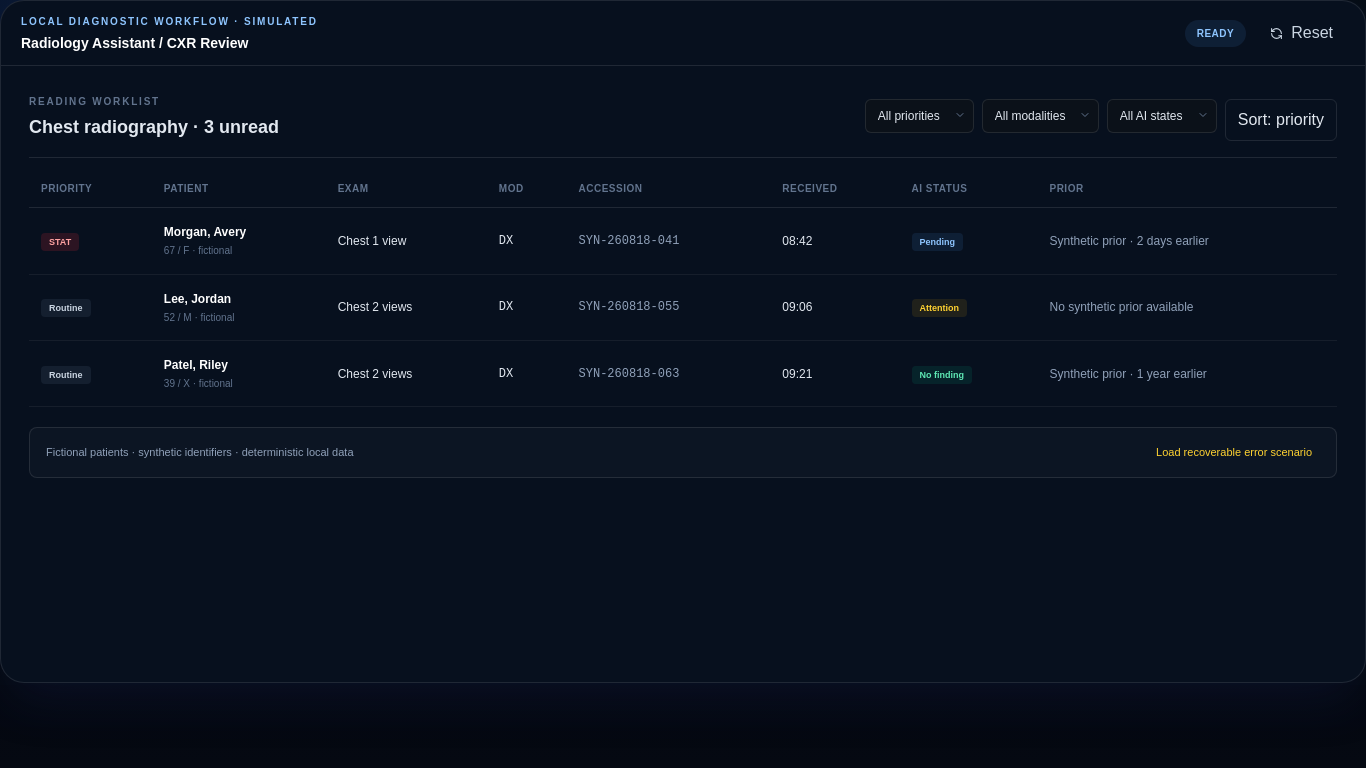
Test: Radiology Assistant simulation › recovers from a simulated processing error and fully resets
Click the button "Load recoverable error scenario".
click(1234, 453)  # box [1148,440,1320,465]
Wait 400 ms
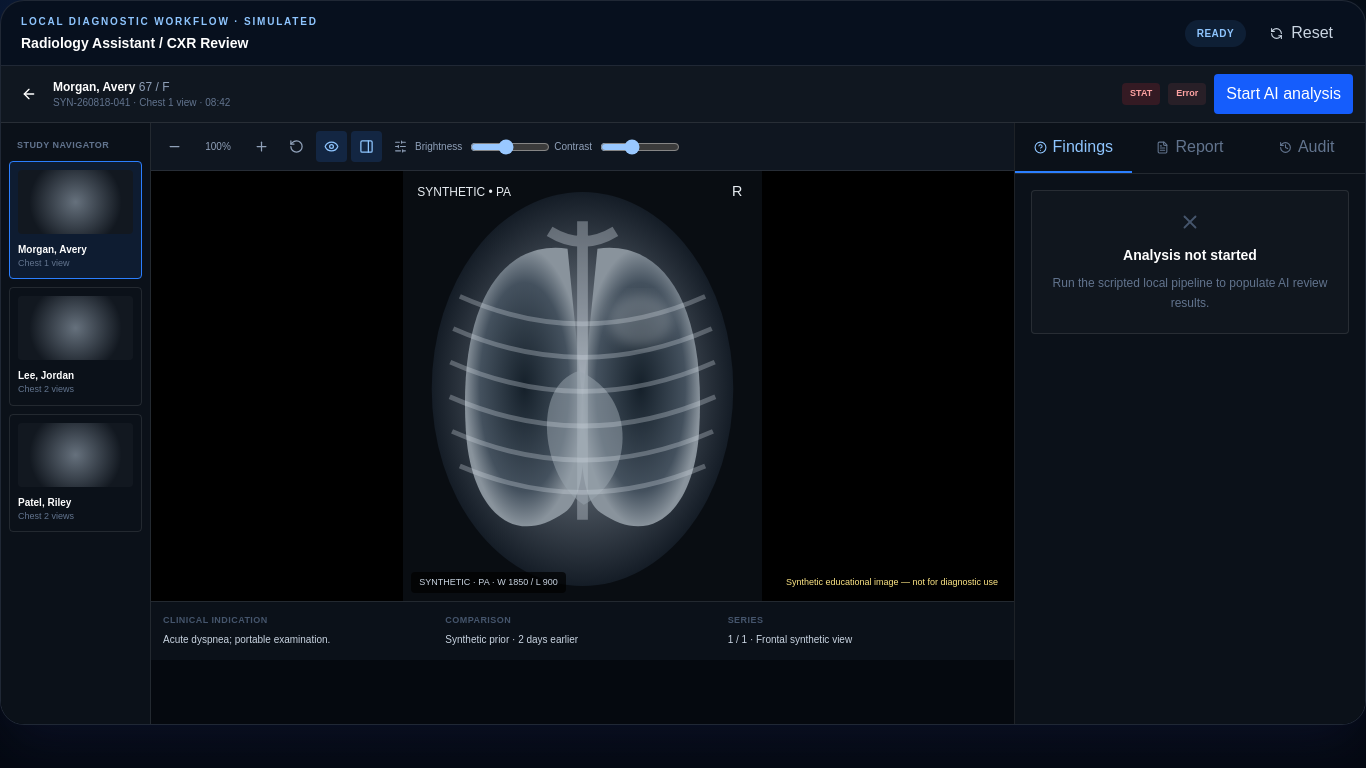
Click the button "Start AI analysis".
click(1284, 94)  # box [1214,74,1353,114]
Wait 1600 ms
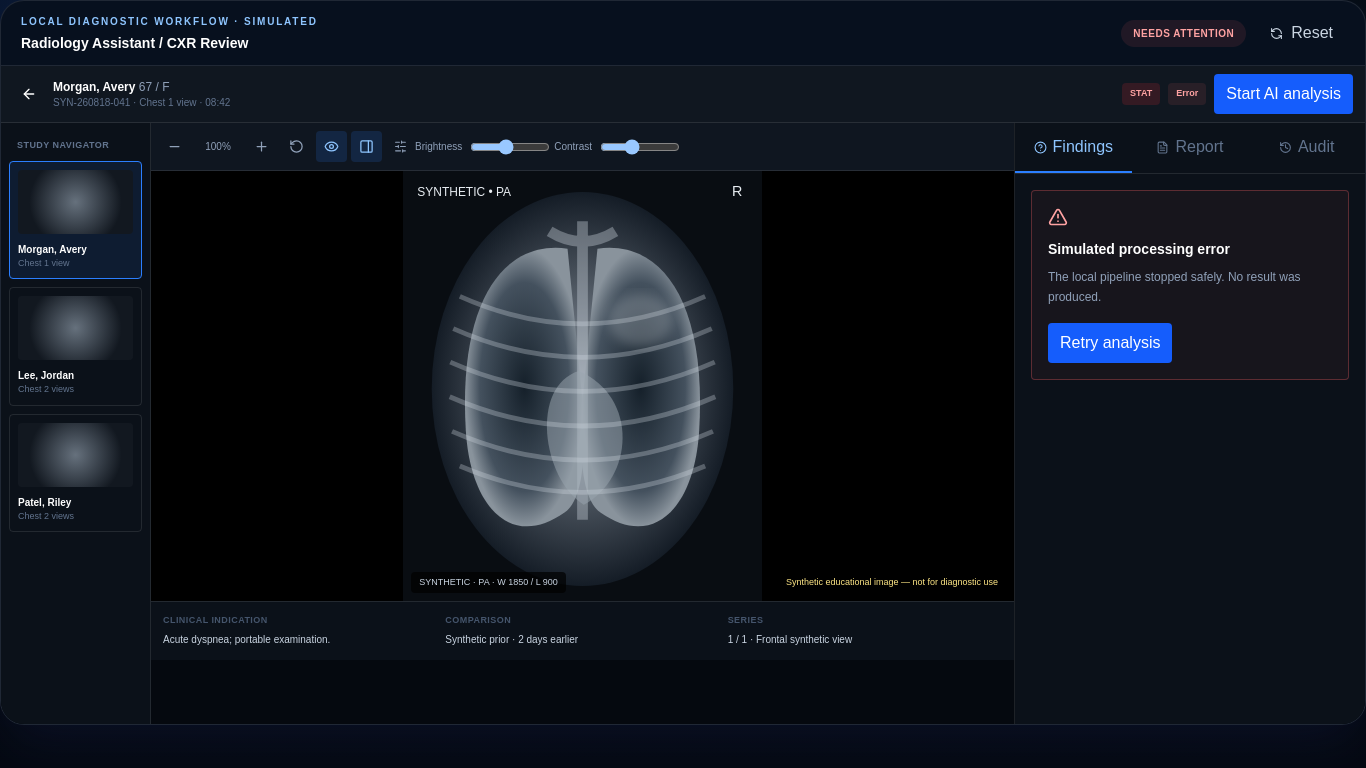
Check: the heading "Simulated processing error" is shown, box [1048,241,1230,257]
Click the button "Retry analysis".
click(1110, 343)  # box [1048,323,1172,363]
Wait 1600 ms
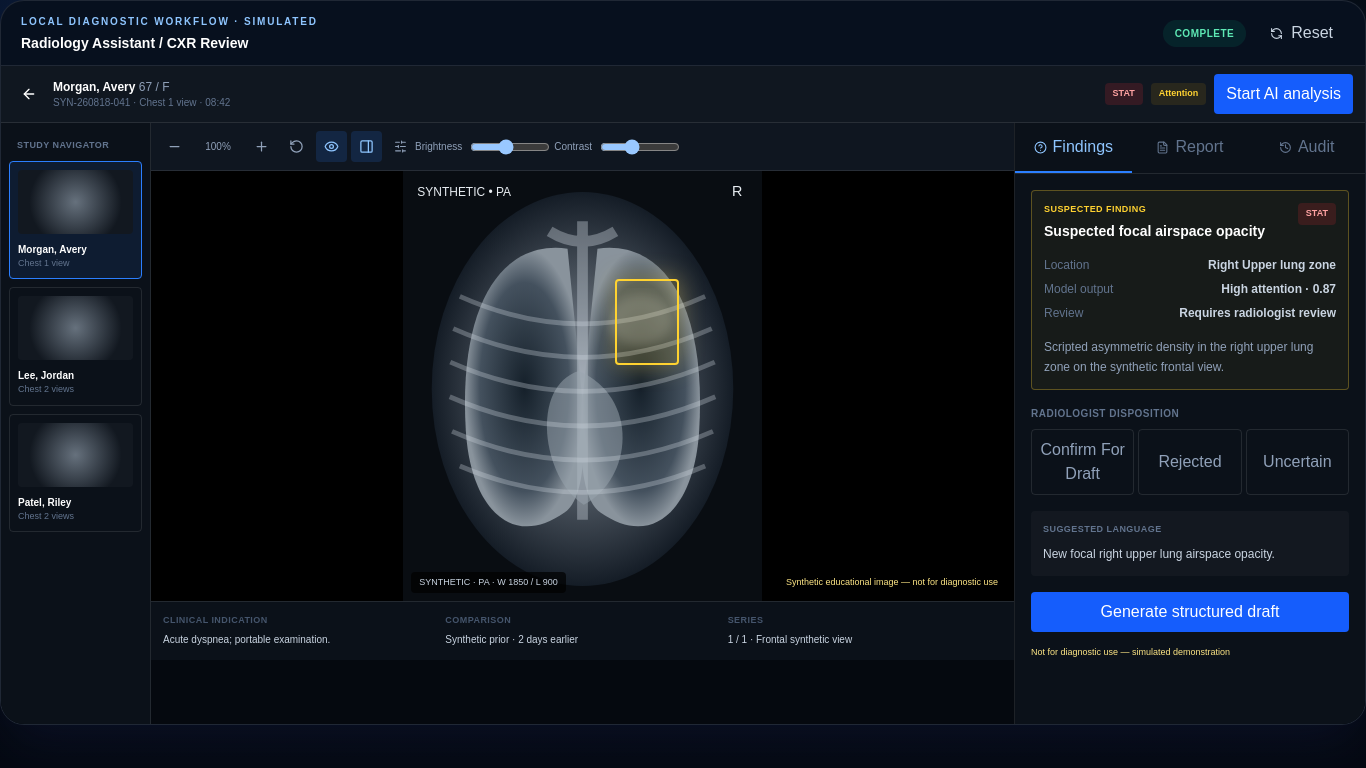
Check: the heading "Suspected focal airspace opacity" is shown, box [1044,220,1265,240]
Click the button "Reset".
click(1302, 33)  # box [1258,13,1345,53]
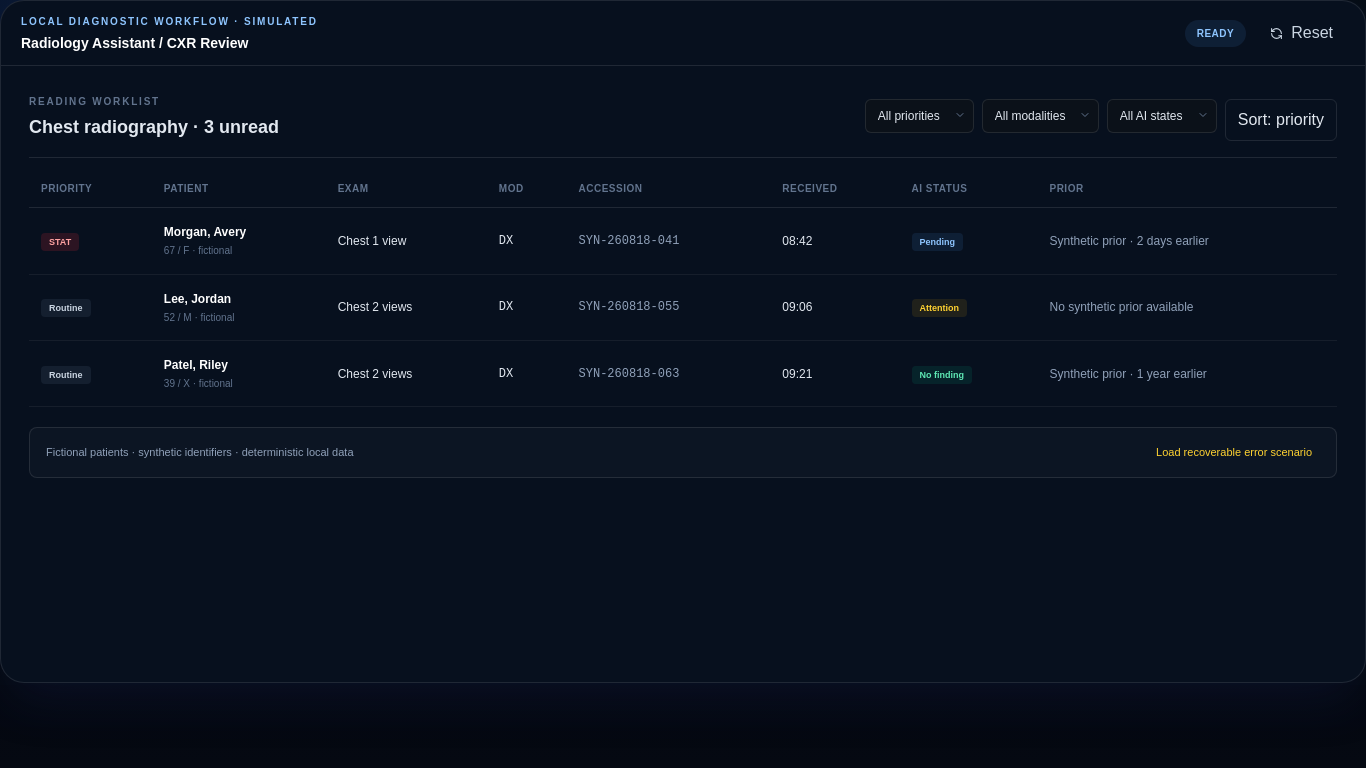
Check: the heading "Chest radiography · 3 unread" is shown, box [29,113,279,141]
